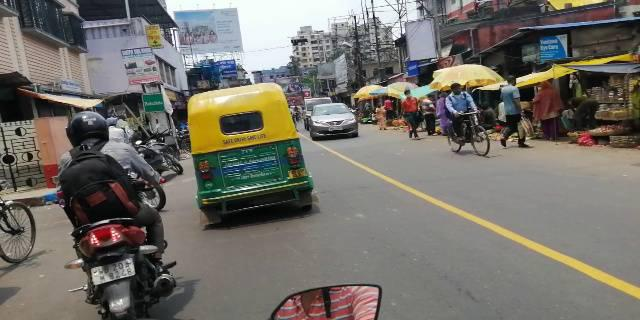Autorickshaw: (179, 79, 320, 220)
Car: (305, 100, 363, 142)
Cycle: (438, 80, 497, 159)
Motorbike: (54, 104, 187, 318)
